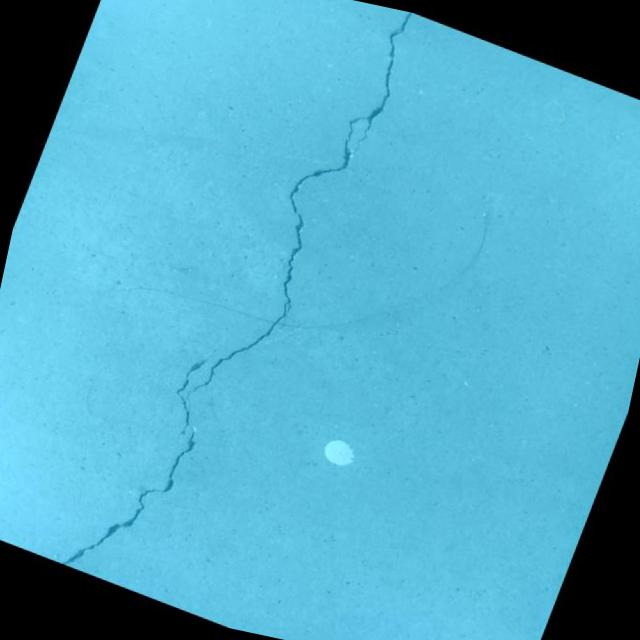crack: (55, 0, 422, 634)
